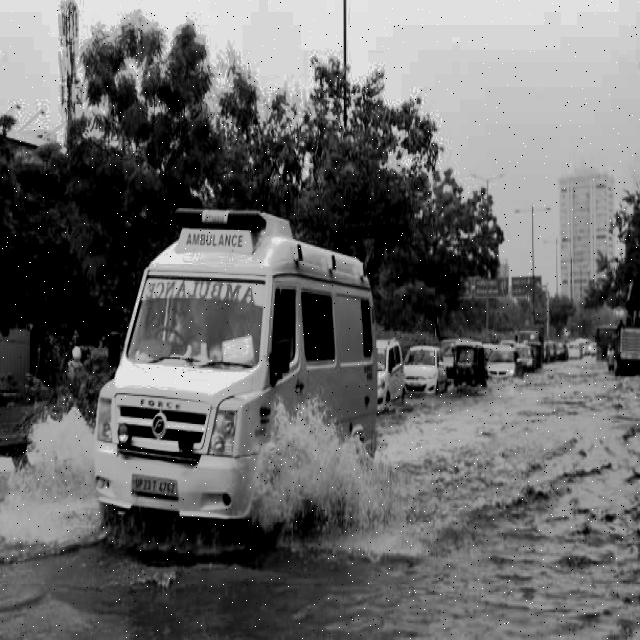Ambulance: (144, 267, 267, 322), (172, 202, 272, 266)
